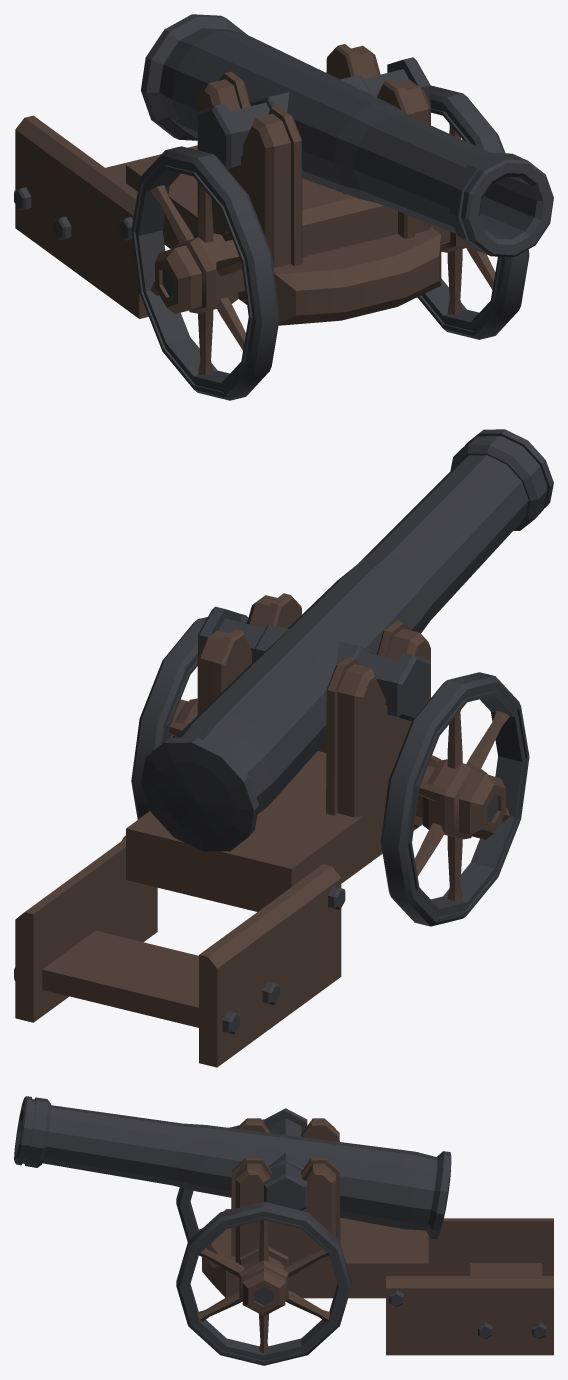
Rendered from cannon.fbx.
3 views of the same model, one above another, from view 1: azimuth 30°, elevation 25°; view 2: azimuth 150°, elevation 25°; view 3: azimuth 270°, elevation 25° (orthographic). The views are drawn at different scales.
Visible parts, largest first — view 1: pCylinder30; view 2: pCylinder30; view 3: pCylinder30.
Part boxes in pixels (box(x1,y1,x2,y2)): pCylinder30: box(14, 14, 553, 400); pCylinder30: box(14, 429, 553, 1067); pCylinder30: box(14, 1096, 553, 1365).
Size of the model in its own units: 0.5222 by 0.5005 by 1.1.
Materials: 1 (1 with a texture image).
